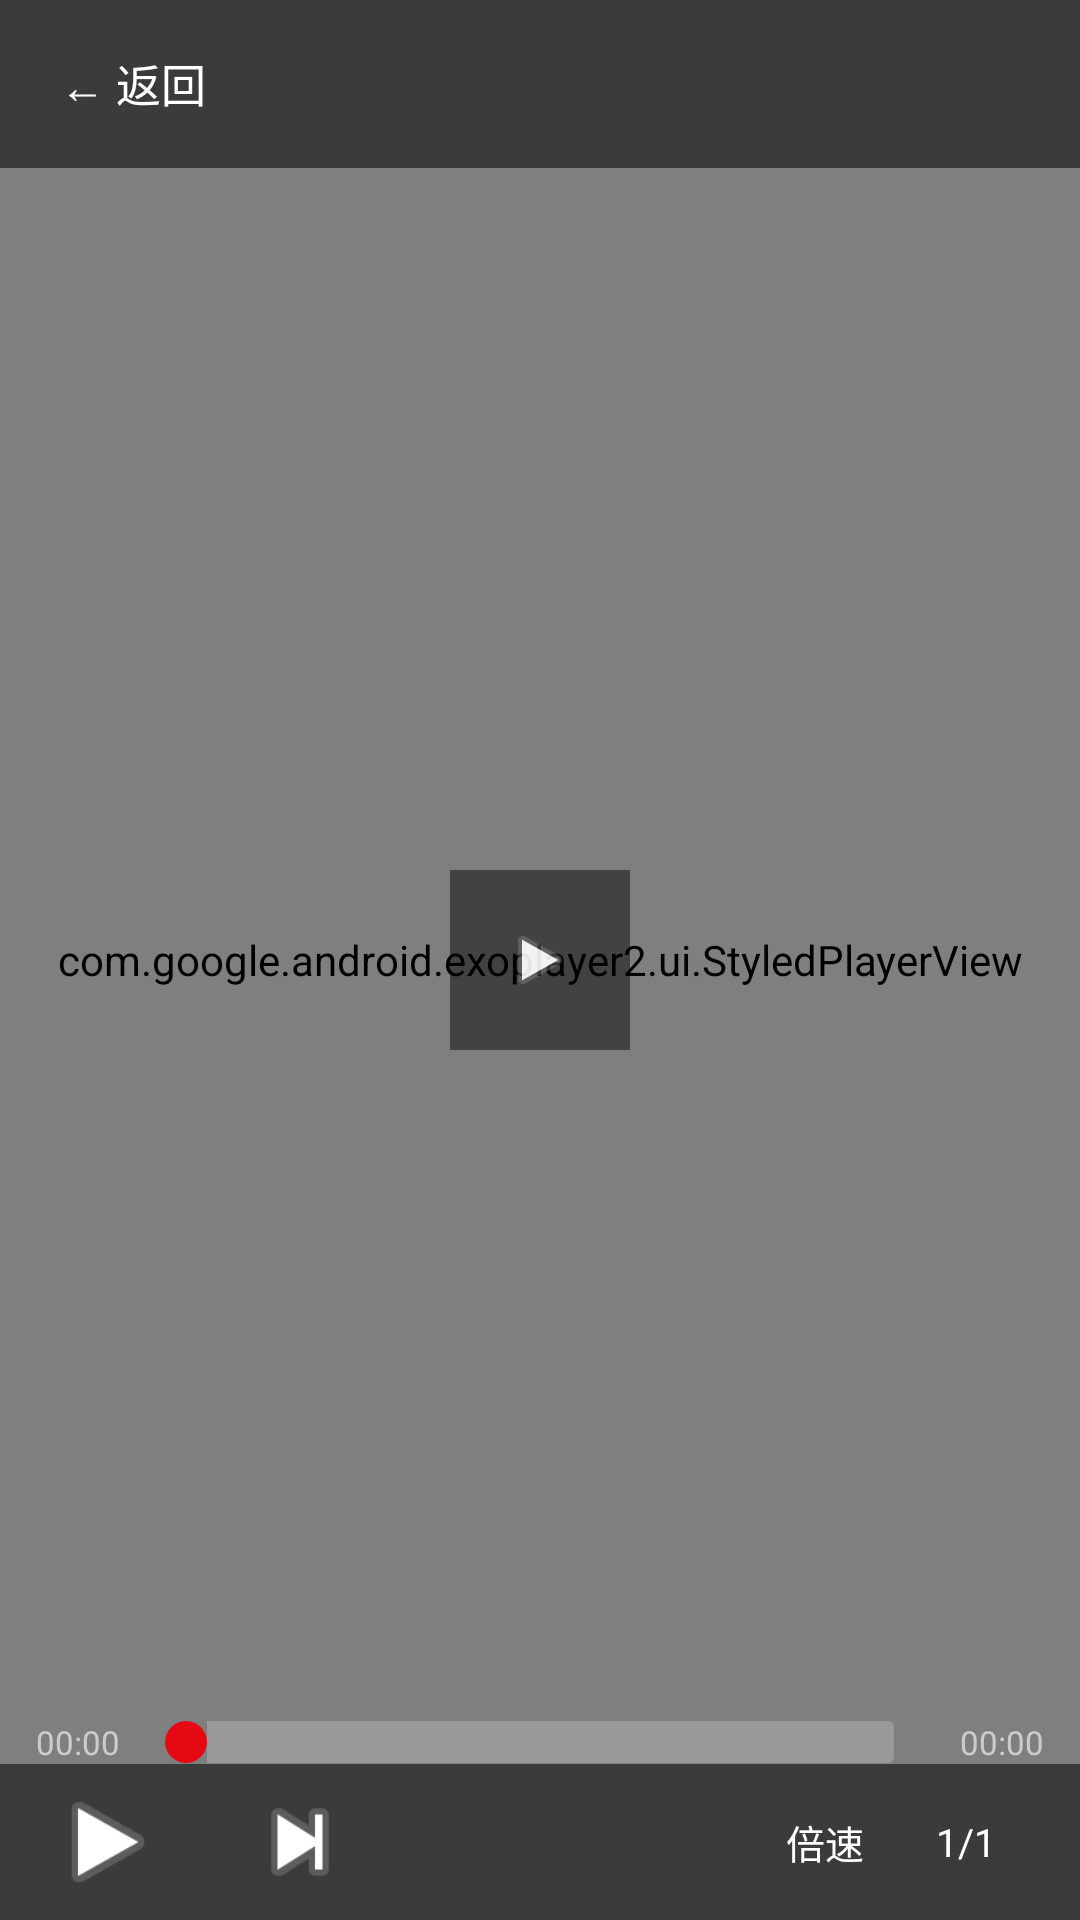

Icon bounding boxes for this 1080 x 1920 phone screenshot, format (x1, y1, x2, y2):
next: (272, 1809, 328, 1875)
